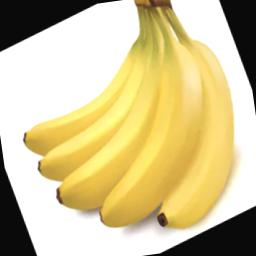Banana Ripe: (0, 6, 256, 247)
